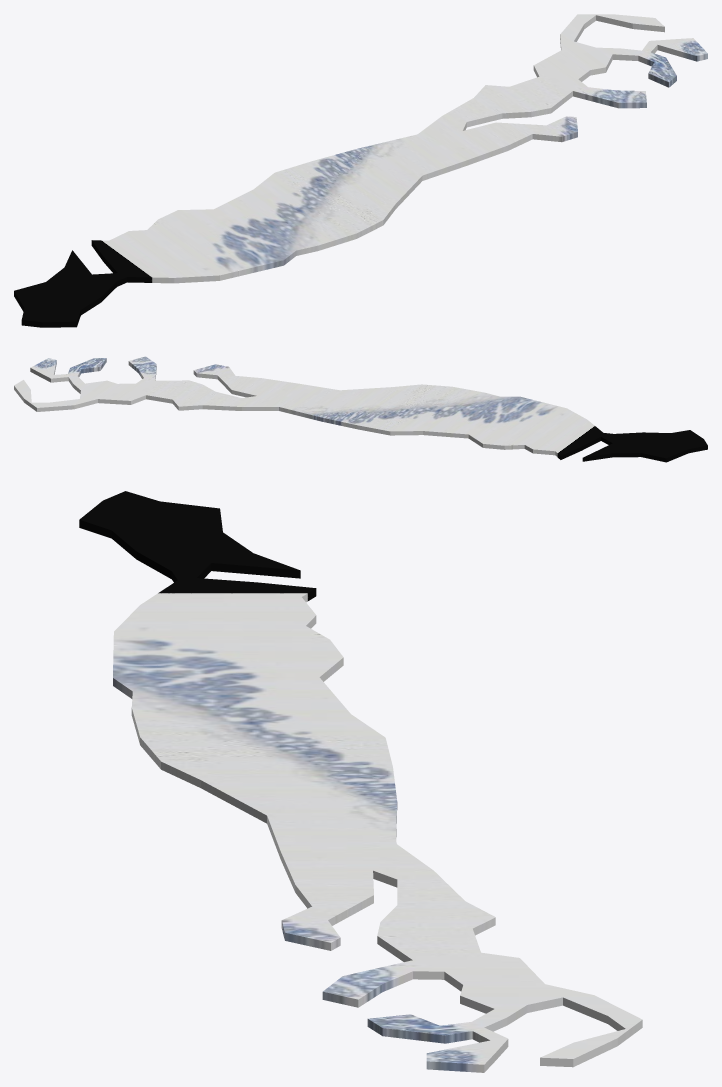
The picture shows the model from 3 angles, top to bottom: view 1: azimuth 30°, elevation 25°; view 2: azimuth 150°, elevation 25°; view 3: azimuth 270°, elevation 25°; orthographic projection. The views are drawn at different scales.
Parts seen in each view (by area): view 1: 平面; view 2: 平面; view 3: 平面.
Boxes of the visible parts, x1,y1,x2,y2 form: 平面: (14, 14, 707, 327); 平面: (14, 356, 707, 462); 平面: (79, 491, 642, 1072).
Bounding box in the file's own units: 21.13 × 0.14 × 8.77.
Materials: 1 (1 with a texture image).
